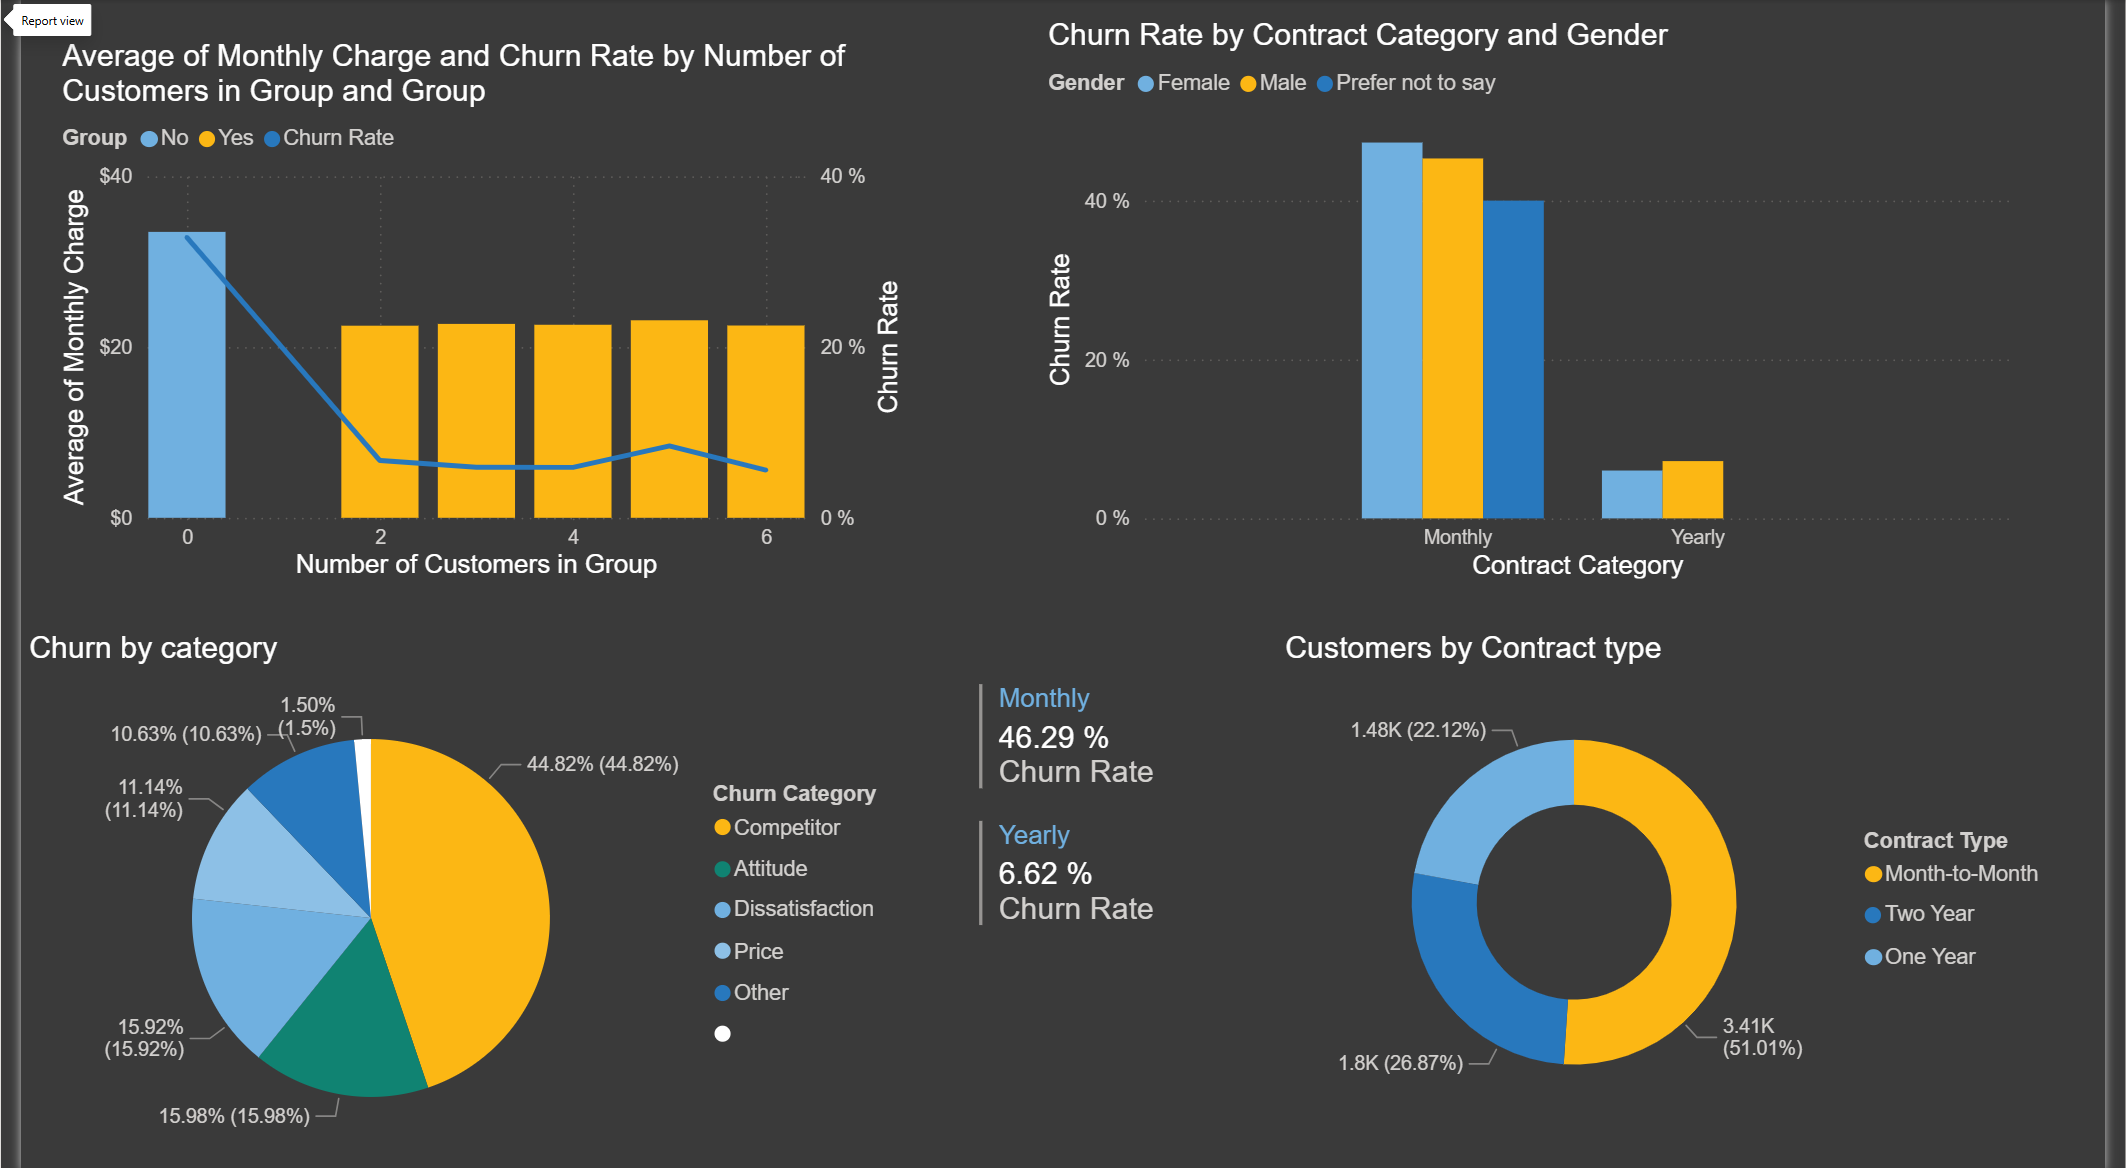

This screenshot's page, from the dashboard's own definition file:
{"tool":"powerbi","page":{"name":"Groups and Categories","canvas":[1280,720],"ordinal":1},"visuals":[{"type":"lineStackedColumnComboChart","fields":{"Category":["Databel - Data.Number of Customers in Group"],"Y":["Avg(Databel - Data.Monthly Charge)"],"Series":["Databel - Data.Group"],"Y2":["Databel - Data.Churn Rate"]},"box":[20.5,23.5,526.4,337.3],"z":0},{"type":"pieChart","title":"Churn by category","fields":{"Category":["Databel - Data.Churn Category"],"Y":["CountNonNull(Databel - Data.Churn Label)"]},"box":[0,387.1,547,332.9],"z":1000},{"type":"clusteredColumnChart","fields":{"Y":["Databel - Data.Churn Rate"],"Category":["Databel - Data.Contract Category"],"Series":["Databel - Data.Gender"]},"box":[626.2,10.3,601.2,350.5],"z":2000},{"type":"multiRowCard","fields":{"Values":["Databel - Data.Churn Rate","Databel - Data.Contract Category"]},"box":[583.6,415,242,209.7],"z":3000},{"type":"donutChart","title":"Customers by Contract type","fields":{"Y":["Count(Databel - Data.Customer ID)"],"Category":["Databel - Data.Contract Type"]},"box":[771.3,387.1,482.4,313.8],"z":4000}]}

Visuals, with their boxes on the page's 1280x720 design canvas (x1, y1, x2, y2). These are canvas units, not pixel positions in the 2126x1168 screenshot, which may show the page scaled, cropped or inside an application window:
lineStackedColumnComboChart - Databel - Data.Number of Customers in Group x Avg(Databel - Data.Monthly Charge): {"x1": 20, "y1": 24, "x2": 547, "y2": 361}
"Churn by category" pieChart: {"x1": 0, "y1": 387, "x2": 547, "y2": 720}
clusteredColumnChart - Databel - Data.Churn Rate x Databel - Data.Contract Category: {"x1": 626, "y1": 10, "x2": 1227, "y2": 361}
multiRowCard - Databel - Data.Churn Rate x Databel - Data.Contract Category: {"x1": 584, "y1": 415, "x2": 826, "y2": 625}
"Customers by Contract type" donutChart: {"x1": 771, "y1": 387, "x2": 1254, "y2": 701}
